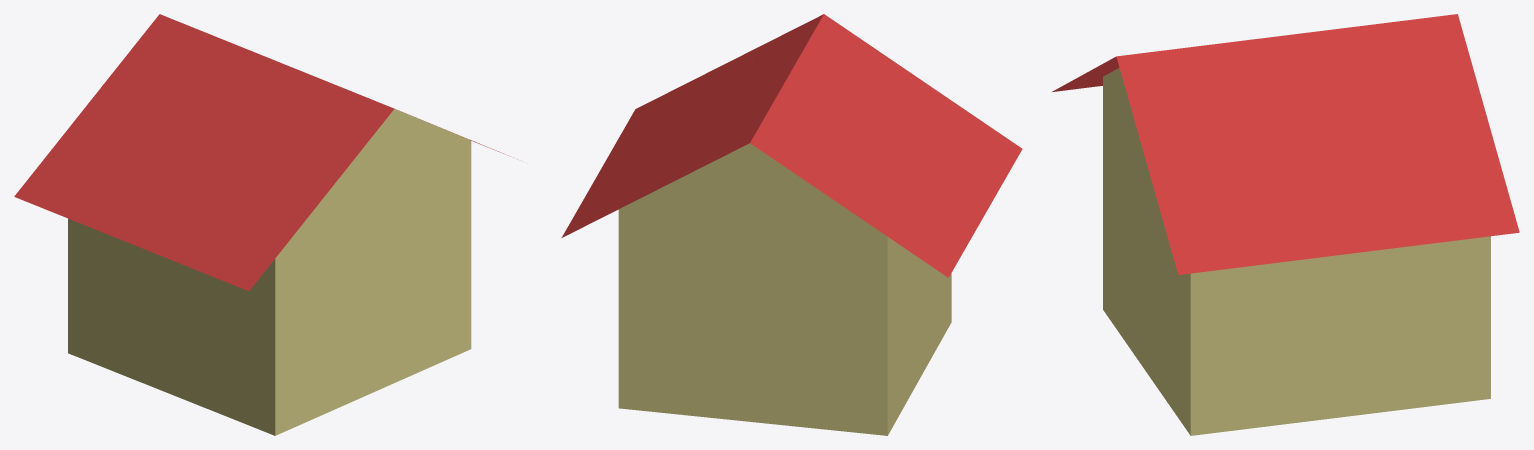
3 renders of one model, left to right at view 1: azimuth 30°, elevation 25°; view 2: azimuth 150°, elevation 25°; view 3: azimuth 270°, elevation 25°, orthographic. The views are drawn at different scales.
Bounding box in the file's own units: 22.27 × 19.57 × 14.77.
